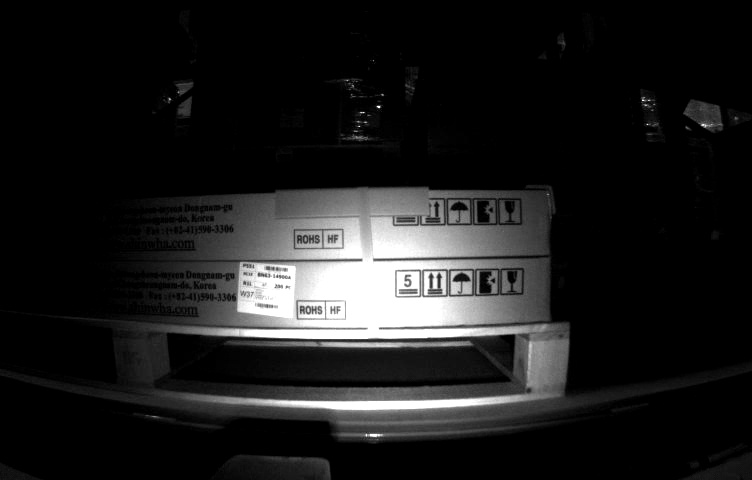True Barcode: (234, 259, 298, 318)
